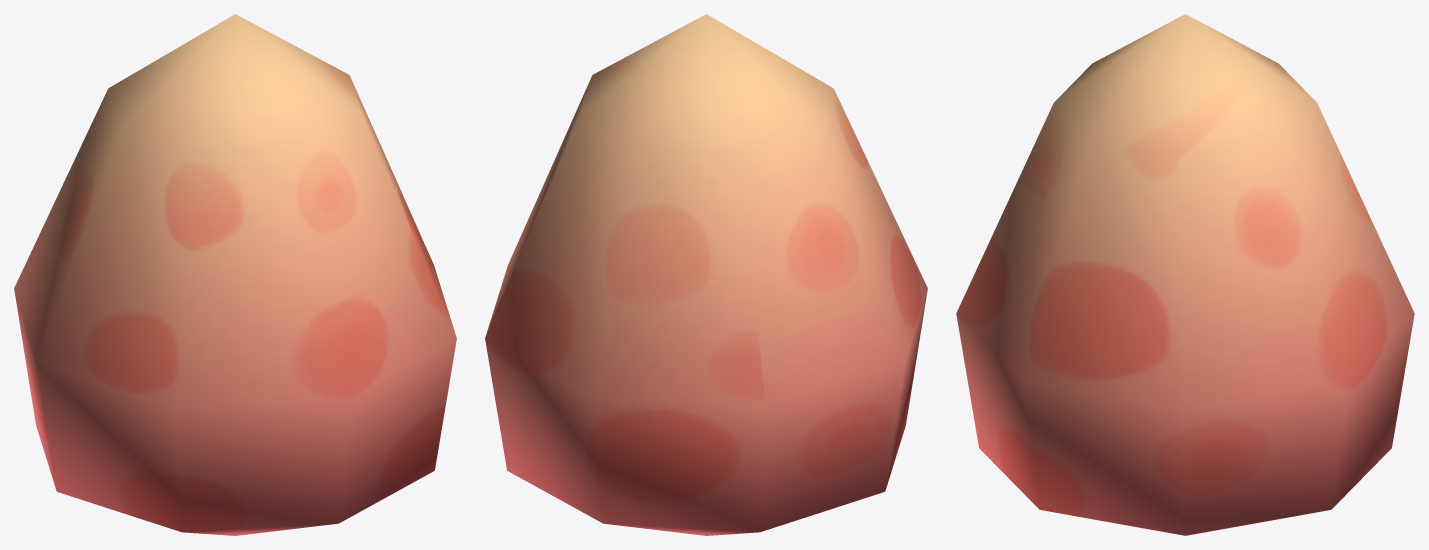
Rendered from Egg@Jump.FBX.
3 renders of one model, left to right at view 1: azimuth 30°, elevation 25°; view 2: azimuth 150°, elevation 25°; view 3: azimuth 270°, elevation 25°, orthographic.
Visible parts, largest first — view 1: Sphere001; view 2: Sphere001; view 3: Sphere001.
Boxes of the visible parts, x1=… form: Sphere001: x1=14, y1=14, x2=456, y2=535; Sphere001: x1=485, y1=14, x2=927, y2=535; Sphere001: x1=956, y1=14, x2=1414, y2=535.
Bounding box in the file's own units: 25.65 × 32.21 × 25.65.
